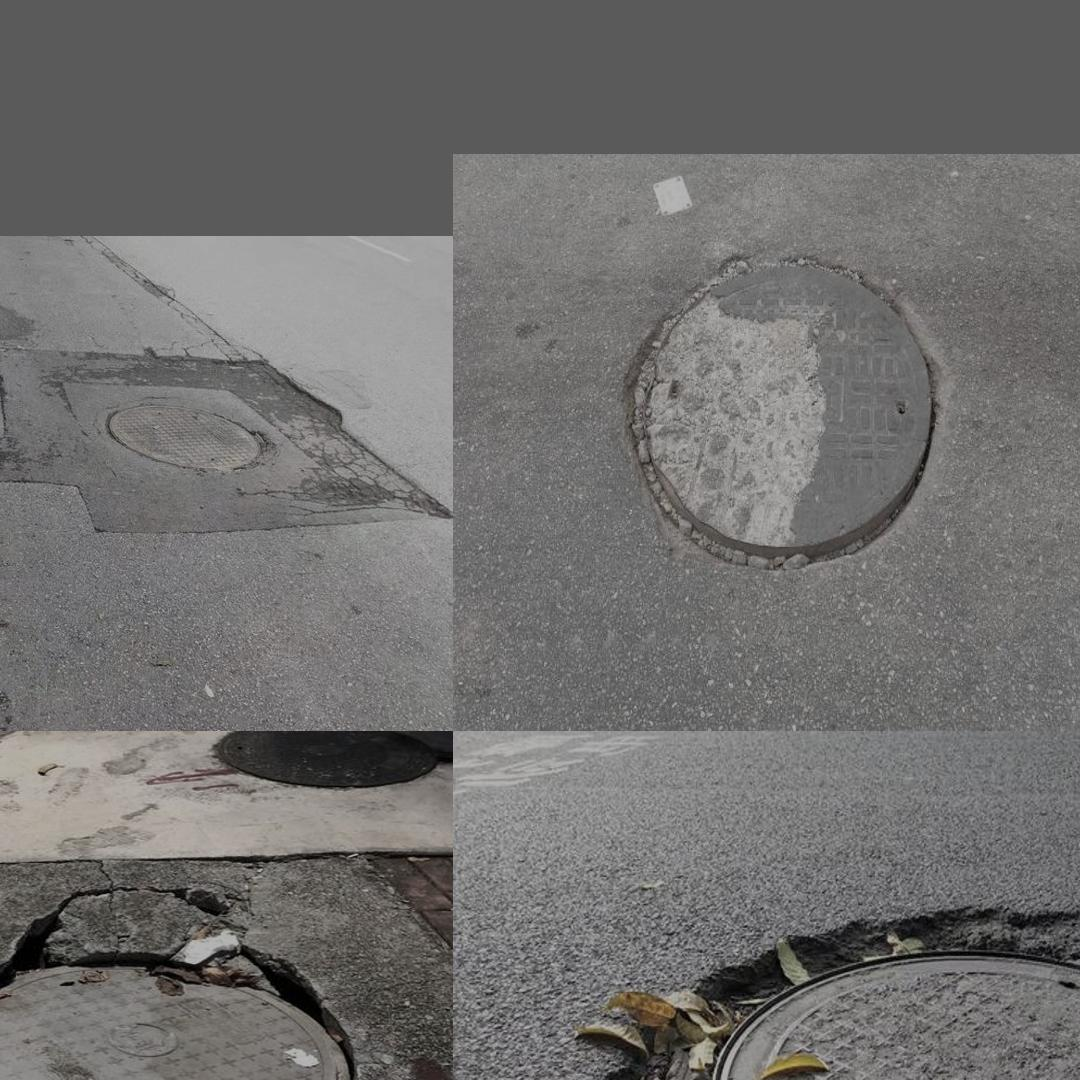circle: (608, 236, 950, 577), (0, 841, 448, 1080), (578, 905, 1080, 1080), (5, 368, 379, 527)
